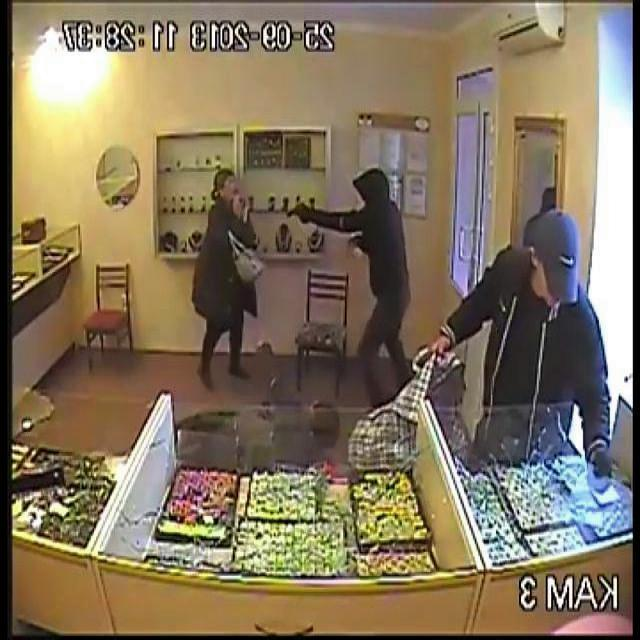gun: (435, 206, 599, 448), (276, 162, 431, 382), (174, 168, 272, 388), (278, 194, 316, 242)
